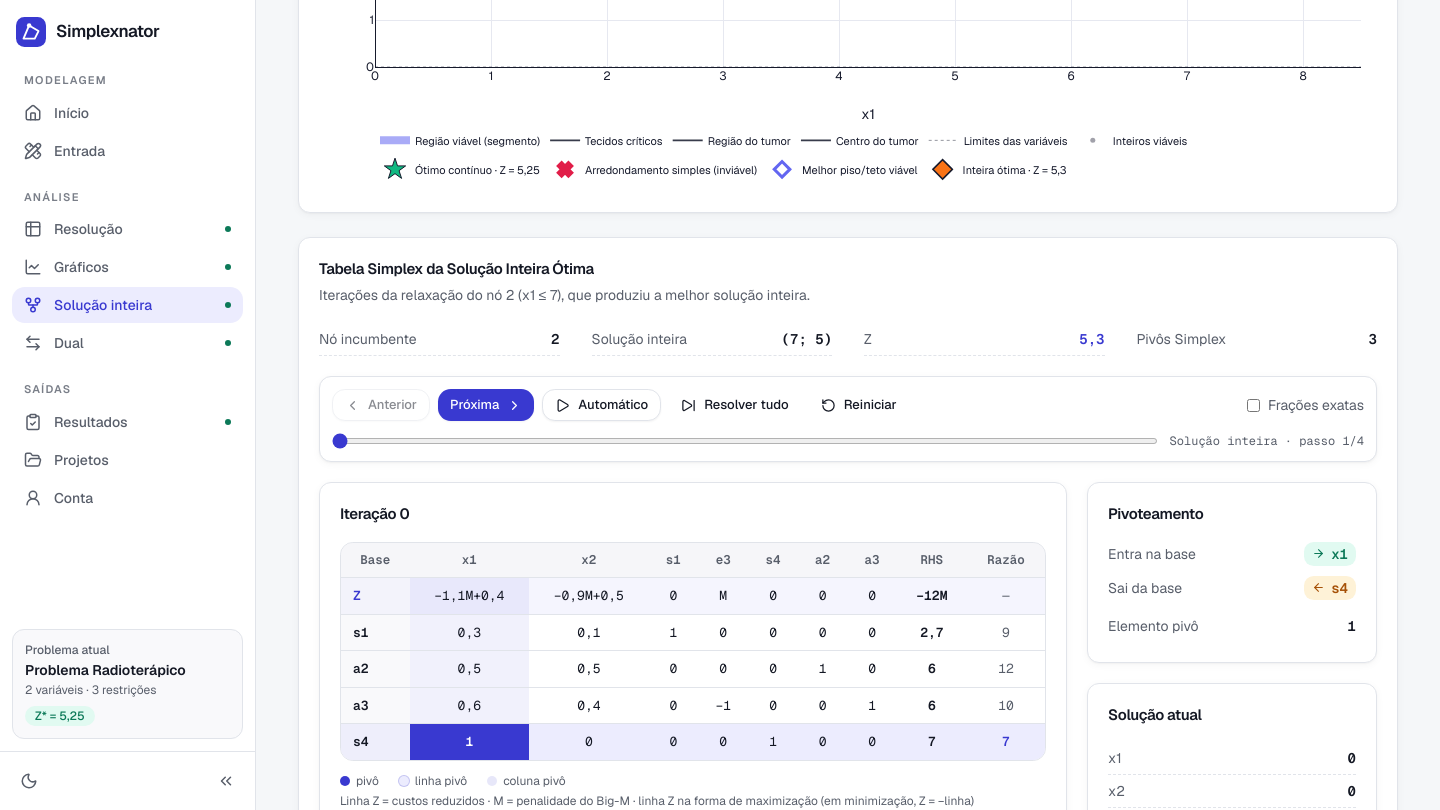
Test: Branch and Bound detalhado — Problema Radioterápico (minimização) › apresenta a Tabela Simplex da Solução Inteira Ótima com iterações do nó incumbente
The image size is (1440, 810).
(page scrolled)
Step 1. Click the button "Próxima" → (486, 405), box [438,389,534,421]
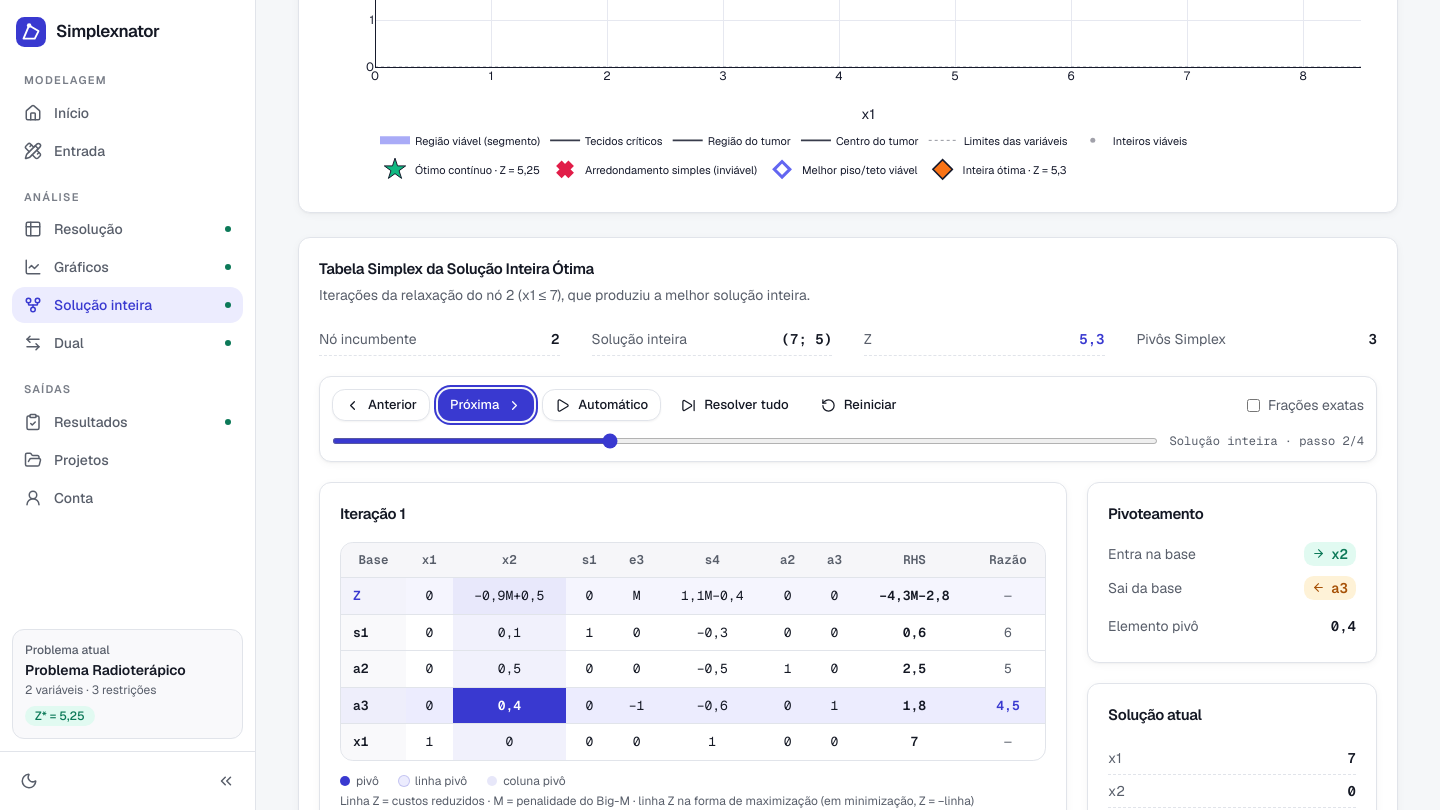
Check: the text "Entra na base" is shown, box [1108,544,1196,564]
Step 2. Click the button "Resolver tudo" → (735, 405), box [669,389,801,421]
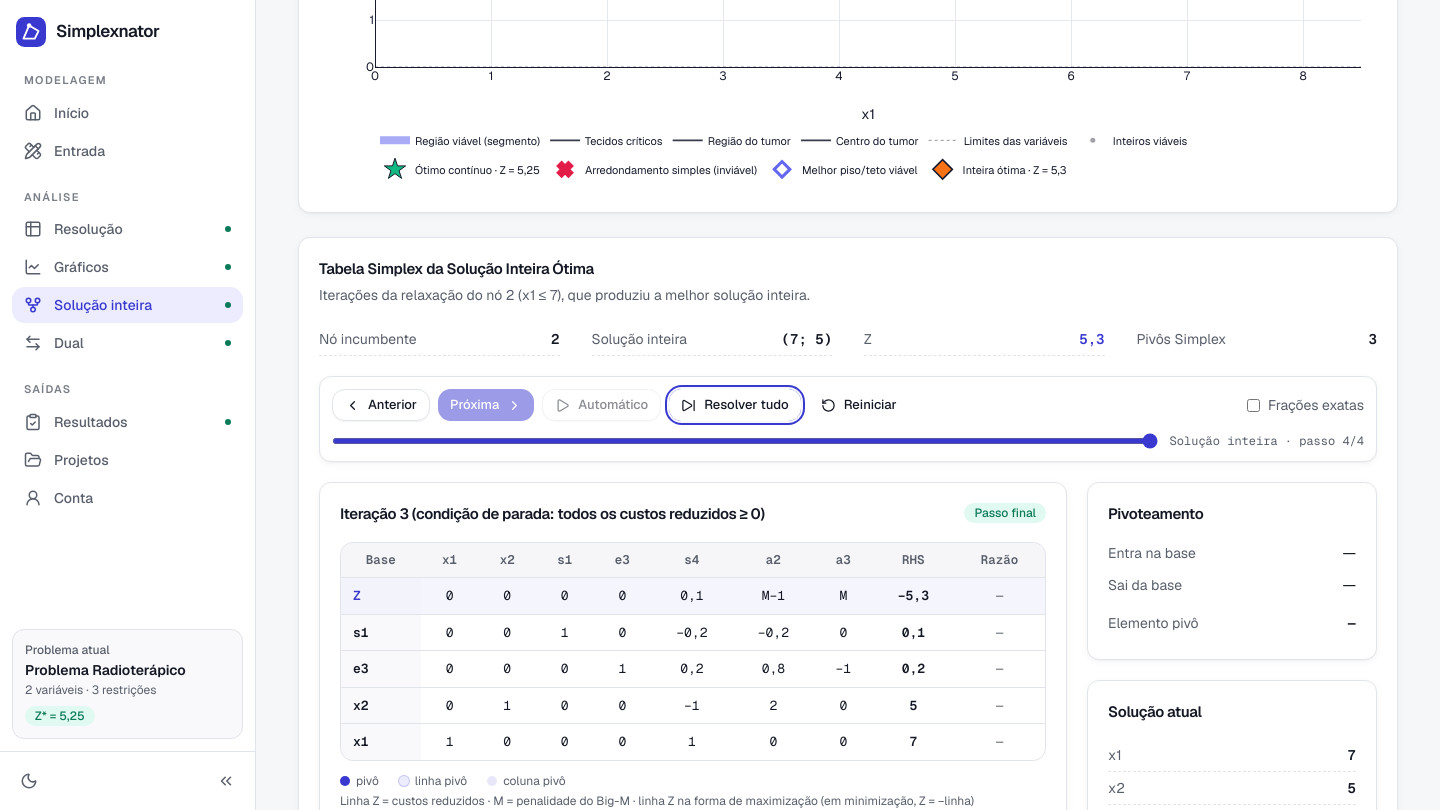
Check: the text "(7; 5)" is shown, box [782,329,832,349]
Check: the text "Passo final" is shown, box [964,503,1046,523]
